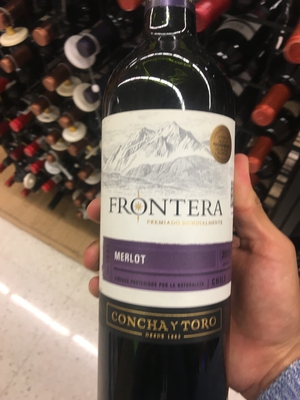frontera merlot: (93, 10, 244, 400)
